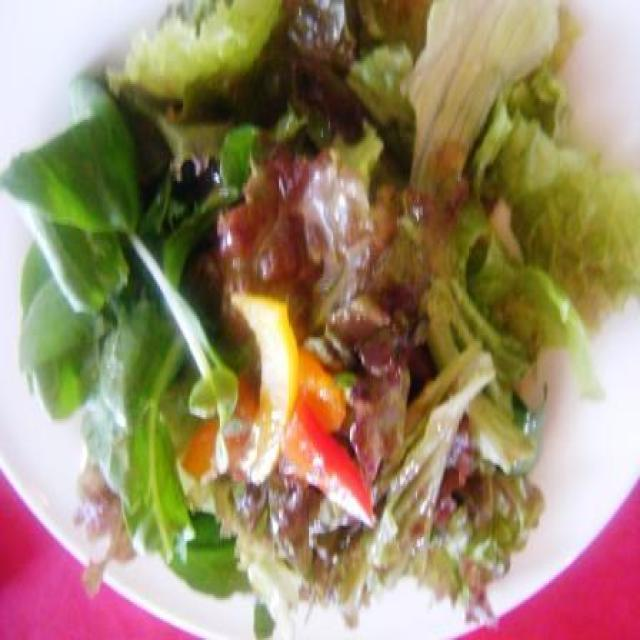Green Salad: (62, 38, 550, 605)
